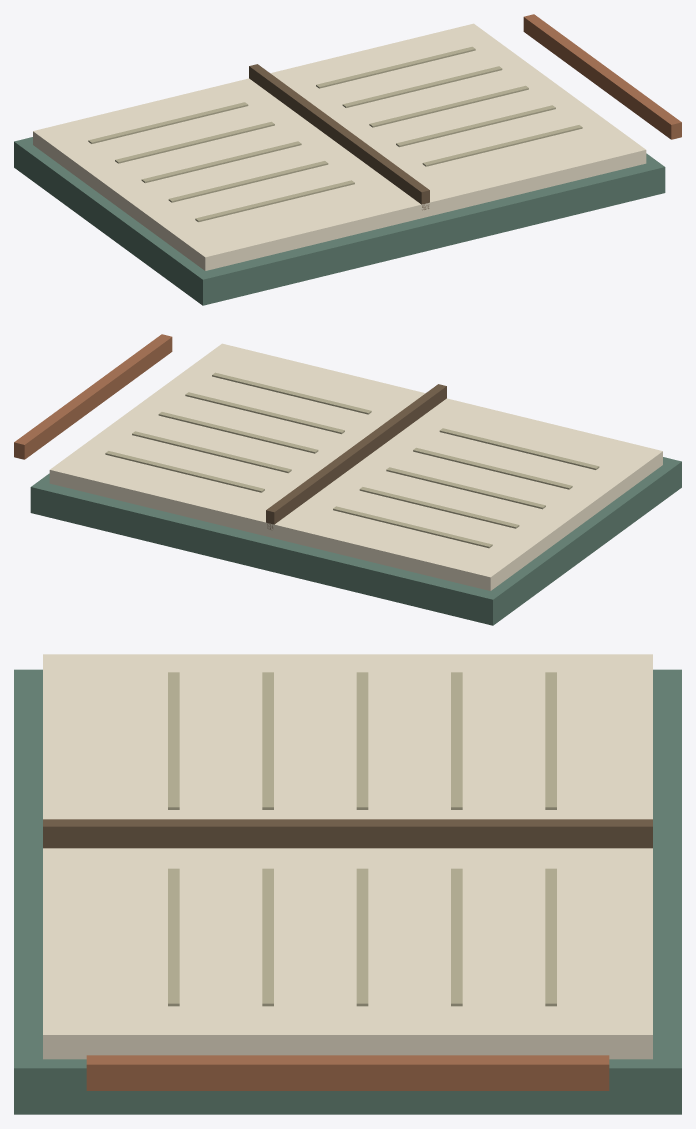
3 renders of one model, top to bottom at view 1: azimuth 30°, elevation 25°; view 2: azimuth 150°, elevation 25°; view 3: azimuth 270°, elevation 25°, orthographic. The views are drawn at different scales.
Bounding box in the file's own units: 0.7025 × 0.07 × 0.46.
